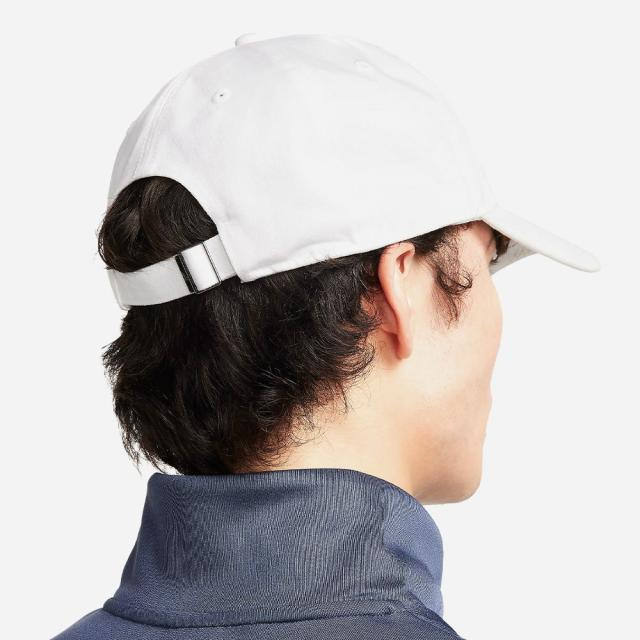Cap: (104, 32, 599, 306)
